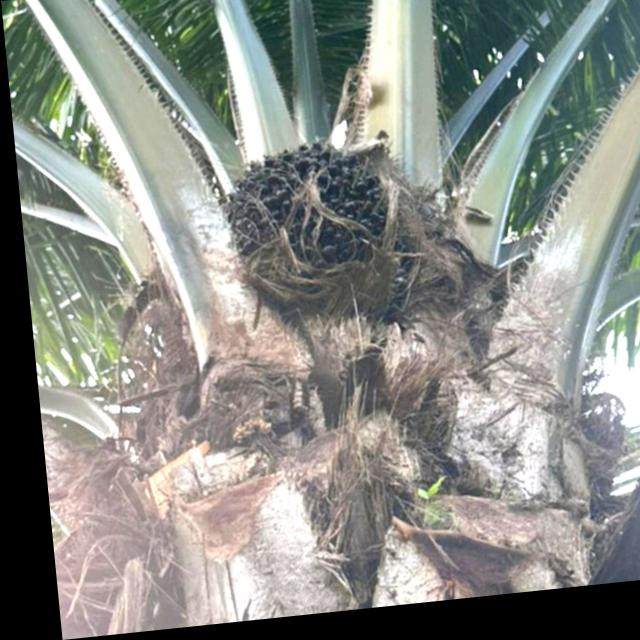unripe: (202, 128, 441, 334)
